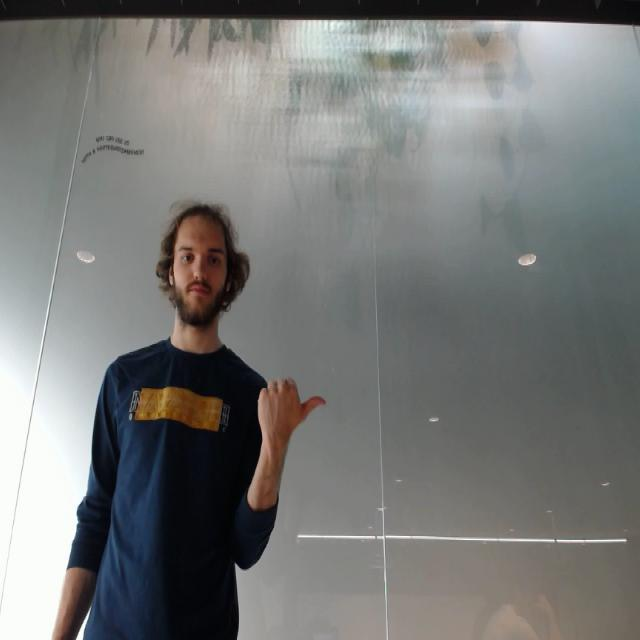right: (253, 372, 333, 449)
